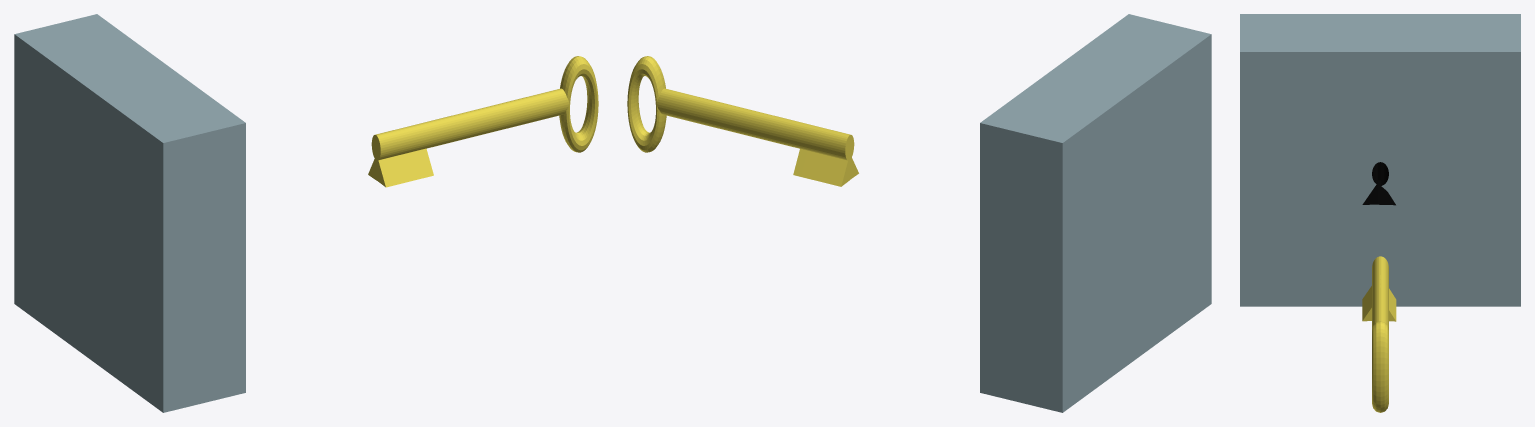
The model's file is jamavain.fbx.
The picture shows the model from 3 angles, left to right: view 1: azimuth 30°, elevation 25°; view 2: azimuth 150°, elevation 25°; view 3: azimuth 270°, elevation 25°; orthographic projection. The views are drawn at different scales.
Visible parts, largest first — view 1: Cube, Cylinder; view 2: Cube, Cylinder; view 3: Cube, Cylinder.
Part boxes in pixels (x1,y1,x2,y2): Cube: (14,14,245,412); Cylinder: (368,56,598,187); Cube: (980,14,1211,412); Cylinder: (627,56,858,186); Cube: (1240,14,1520,306); Cylinder: (1362,256,1396,412).
Size of the model in its own units: 39.54 by 20.09 by 20.09.
